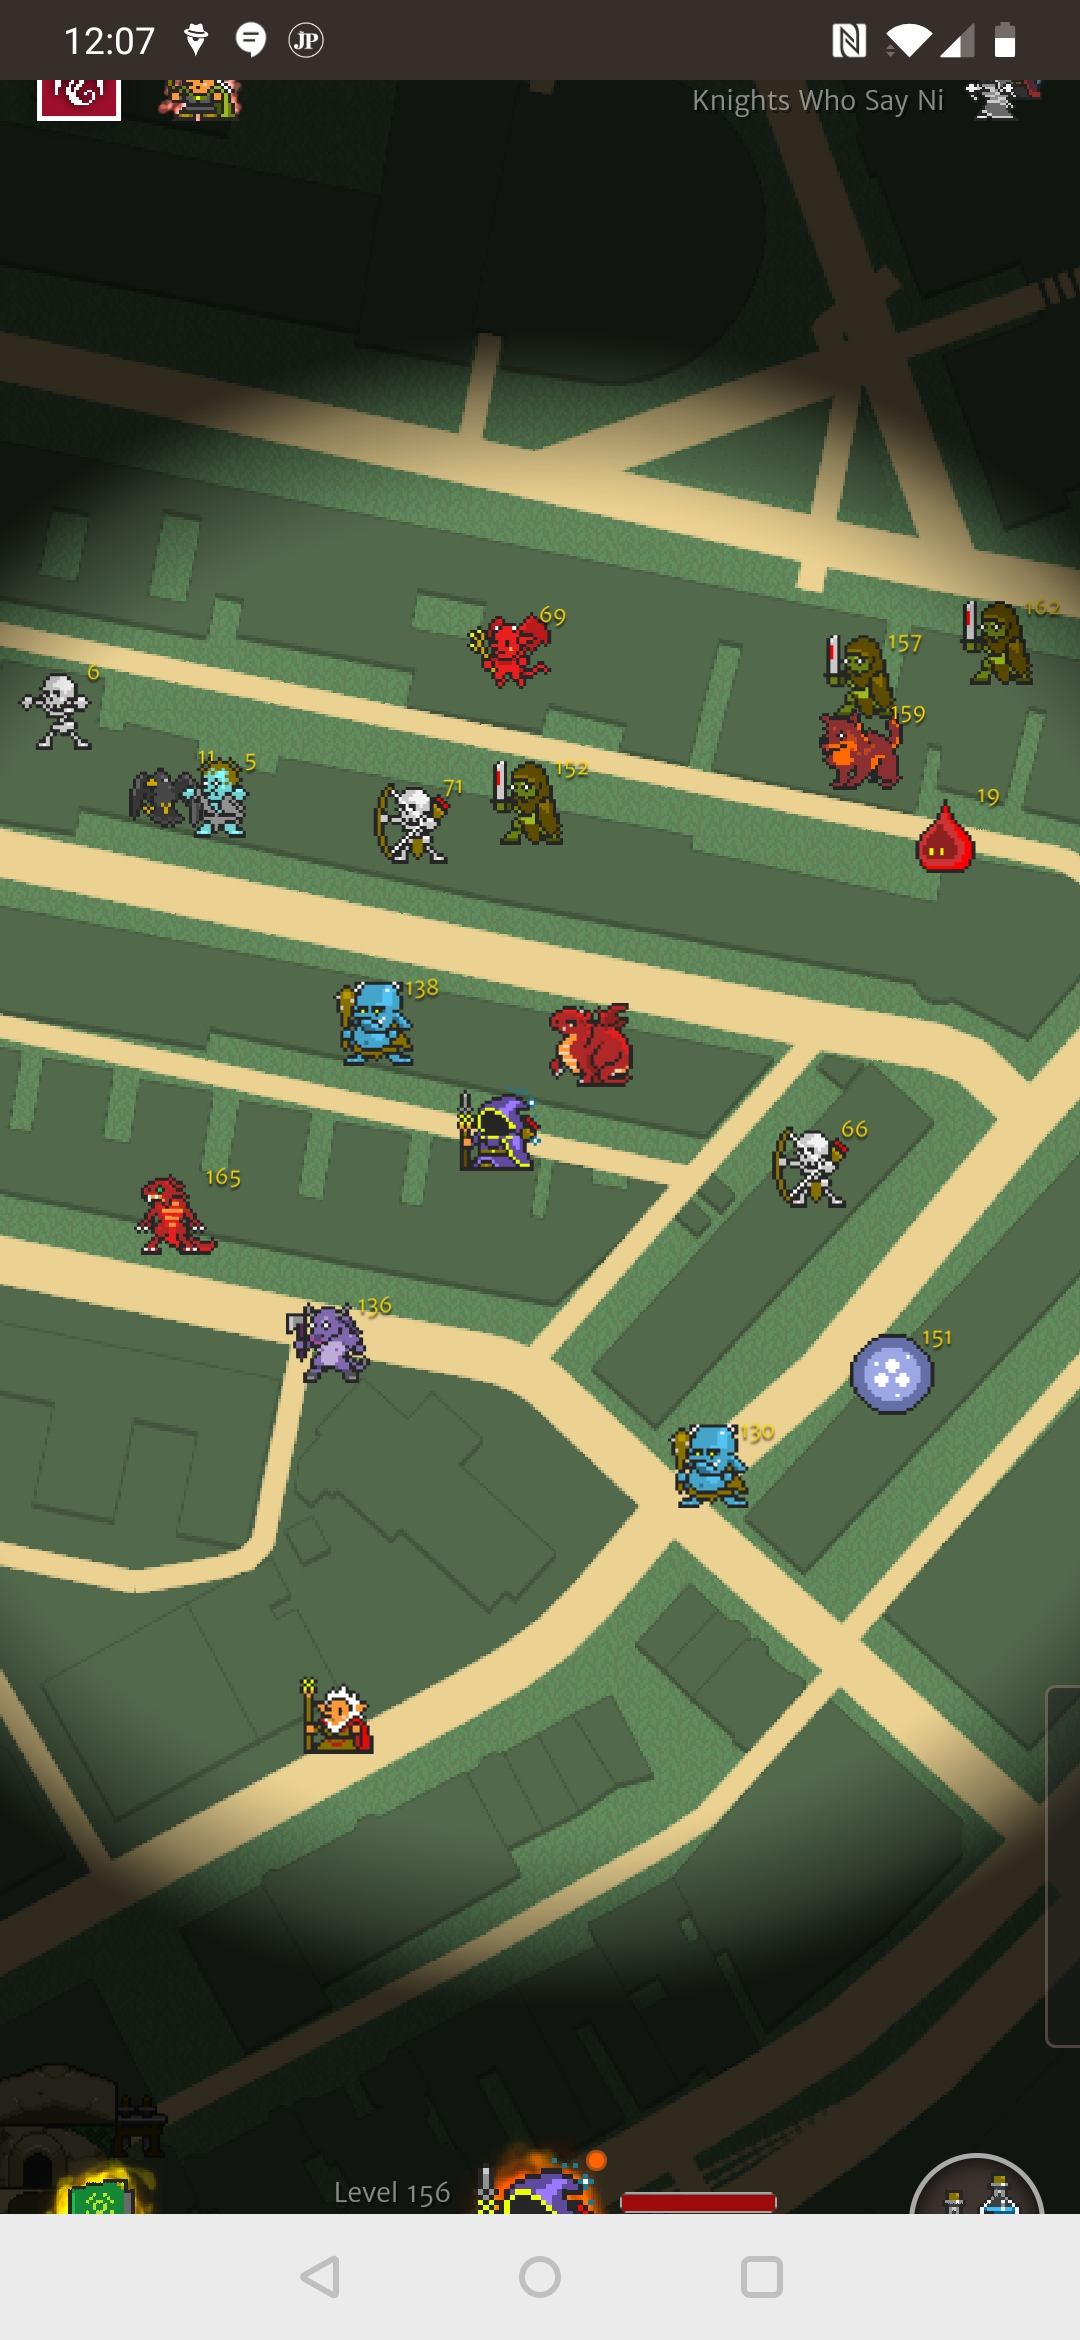monster: (322, 970, 441, 1077), (836, 1319, 956, 1424), (951, 594, 1066, 701), (280, 1292, 398, 1391), (125, 1165, 246, 1260), (663, 1424, 780, 1519), (764, 1114, 869, 1216), (486, 757, 592, 857), (820, 701, 931, 794), (368, 774, 464, 872), (469, 602, 566, 692), (820, 628, 924, 714), (120, 745, 215, 836), (22, 663, 107, 757), (914, 784, 1000, 875), (185, 753, 259, 836)
player: (458, 1091, 537, 1177)
